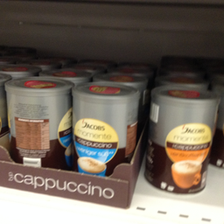coffee: (141, 85, 220, 194), (70, 82, 141, 176), (2, 76, 72, 169)
